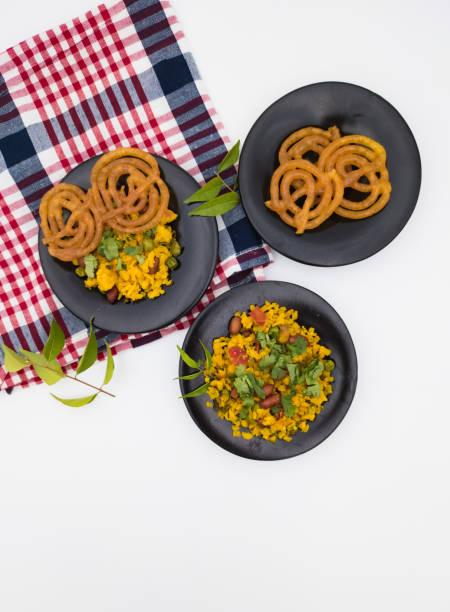poha: (205, 308, 335, 450), (87, 239, 196, 306)
